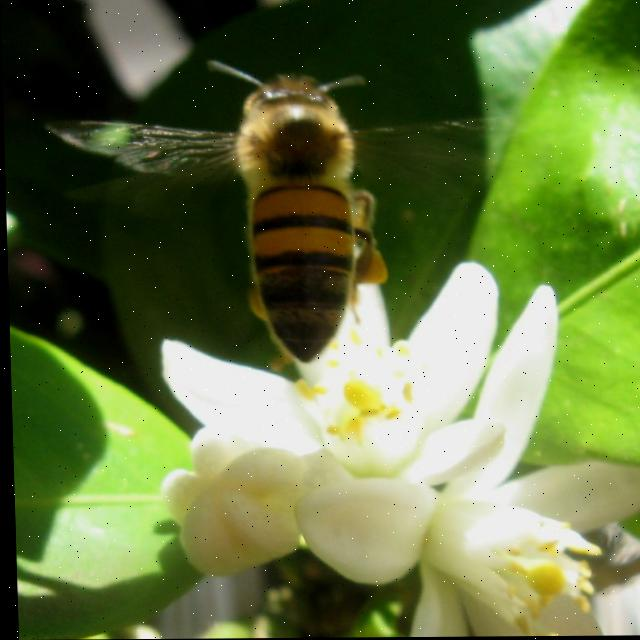Apis-mellifera-scutellata: (54, 52, 513, 400)
